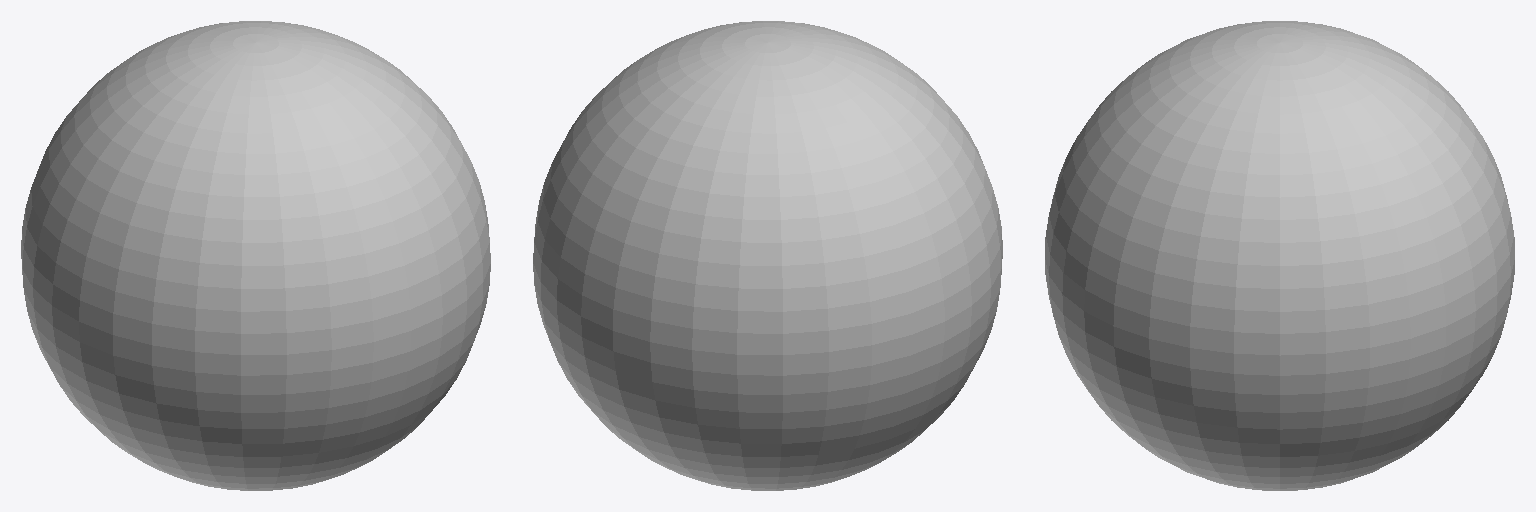
File: planeta.obj
3 renders of one model, left to right at view 1: azimuth 30°, elevation 25°; view 2: azimuth 150°, elevation 25°; view 3: azimuth 270°, elevation 25°, orthographic.
Visible parts, largest first — view 1: Sphere; view 2: Sphere; view 3: Sphere.
Part boxes in pixels (bbox=[...]): Sphere: bbox=[21, 21, 490, 490]; Sphere: bbox=[533, 21, 1002, 490]; Sphere: bbox=[1045, 21, 1514, 490].
Bounding box in the file's own units: 2 × 2 × 2.